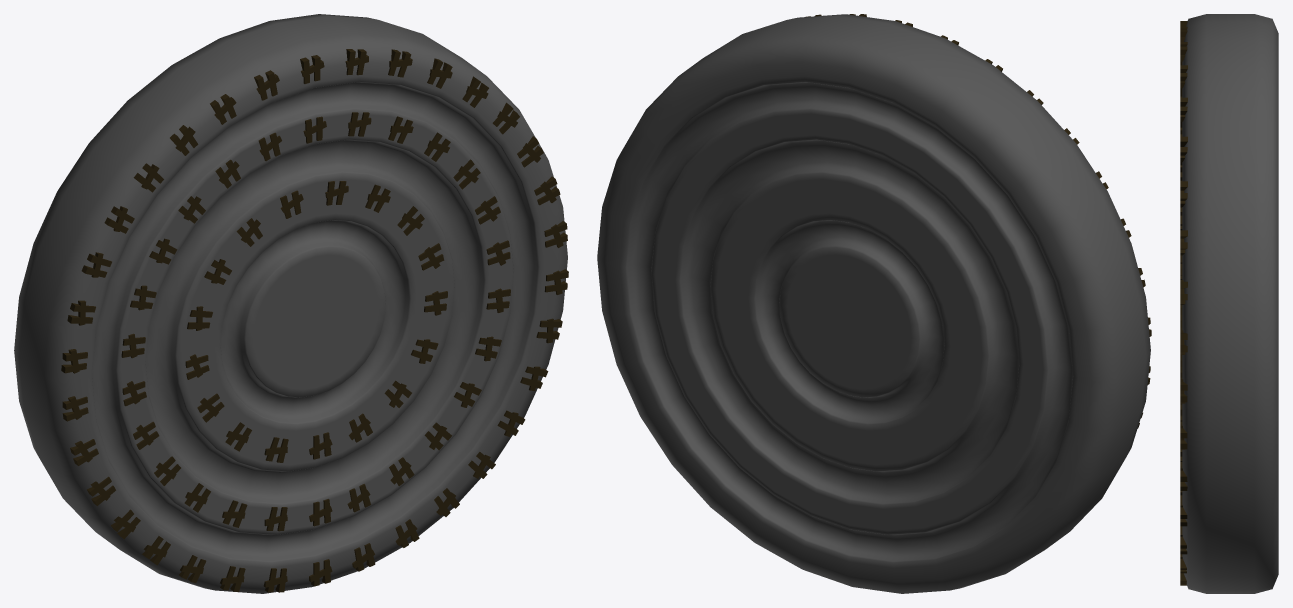
File: Seal.fbx
The picture shows the model from 3 angles, left to right: view 1: azimuth 30°, elevation 25°; view 2: azimuth 150°, elevation 25°; view 3: azimuth 270°, elevation 25°; orthographic projection. The views are drawn at different scales.
Parts seen in each view (by area): view 1: Seal, Outer Text, Middle Text, Inner Text; view 2: Seal; view 3: Seal, Outer Text, Middle Text.
Boxes of the visible parts, x1,y1,x2,y2 form: Seal: [14, 14, 567, 593]; Outer Text: [61, 49, 568, 592]; Middle Text: [121, 112, 510, 531]; Inner Text: [185, 181, 447, 462]; Seal: [597, 14, 1150, 593]; Seal: [1182, 14, 1278, 593]; Outer Text: [1180, 21, 1187, 585]; Middle Text: [1180, 96, 1182, 496].
Bounding box in the file's own units: 683 × 683 × 116.
